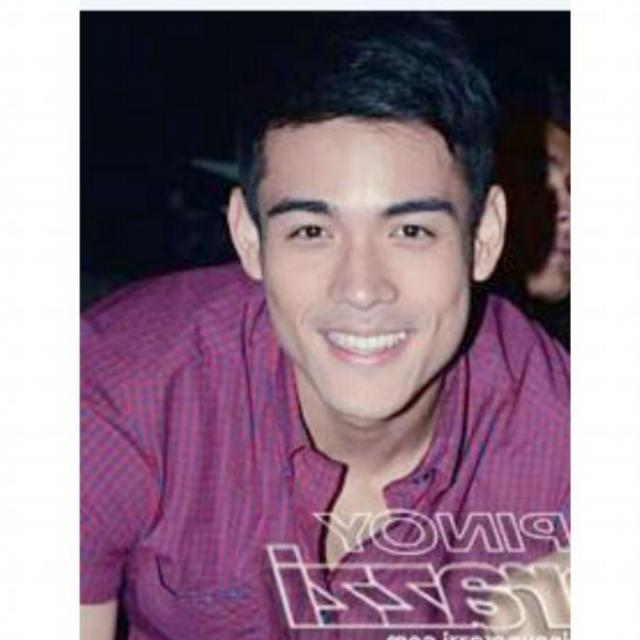live: (235, 64, 509, 425)
